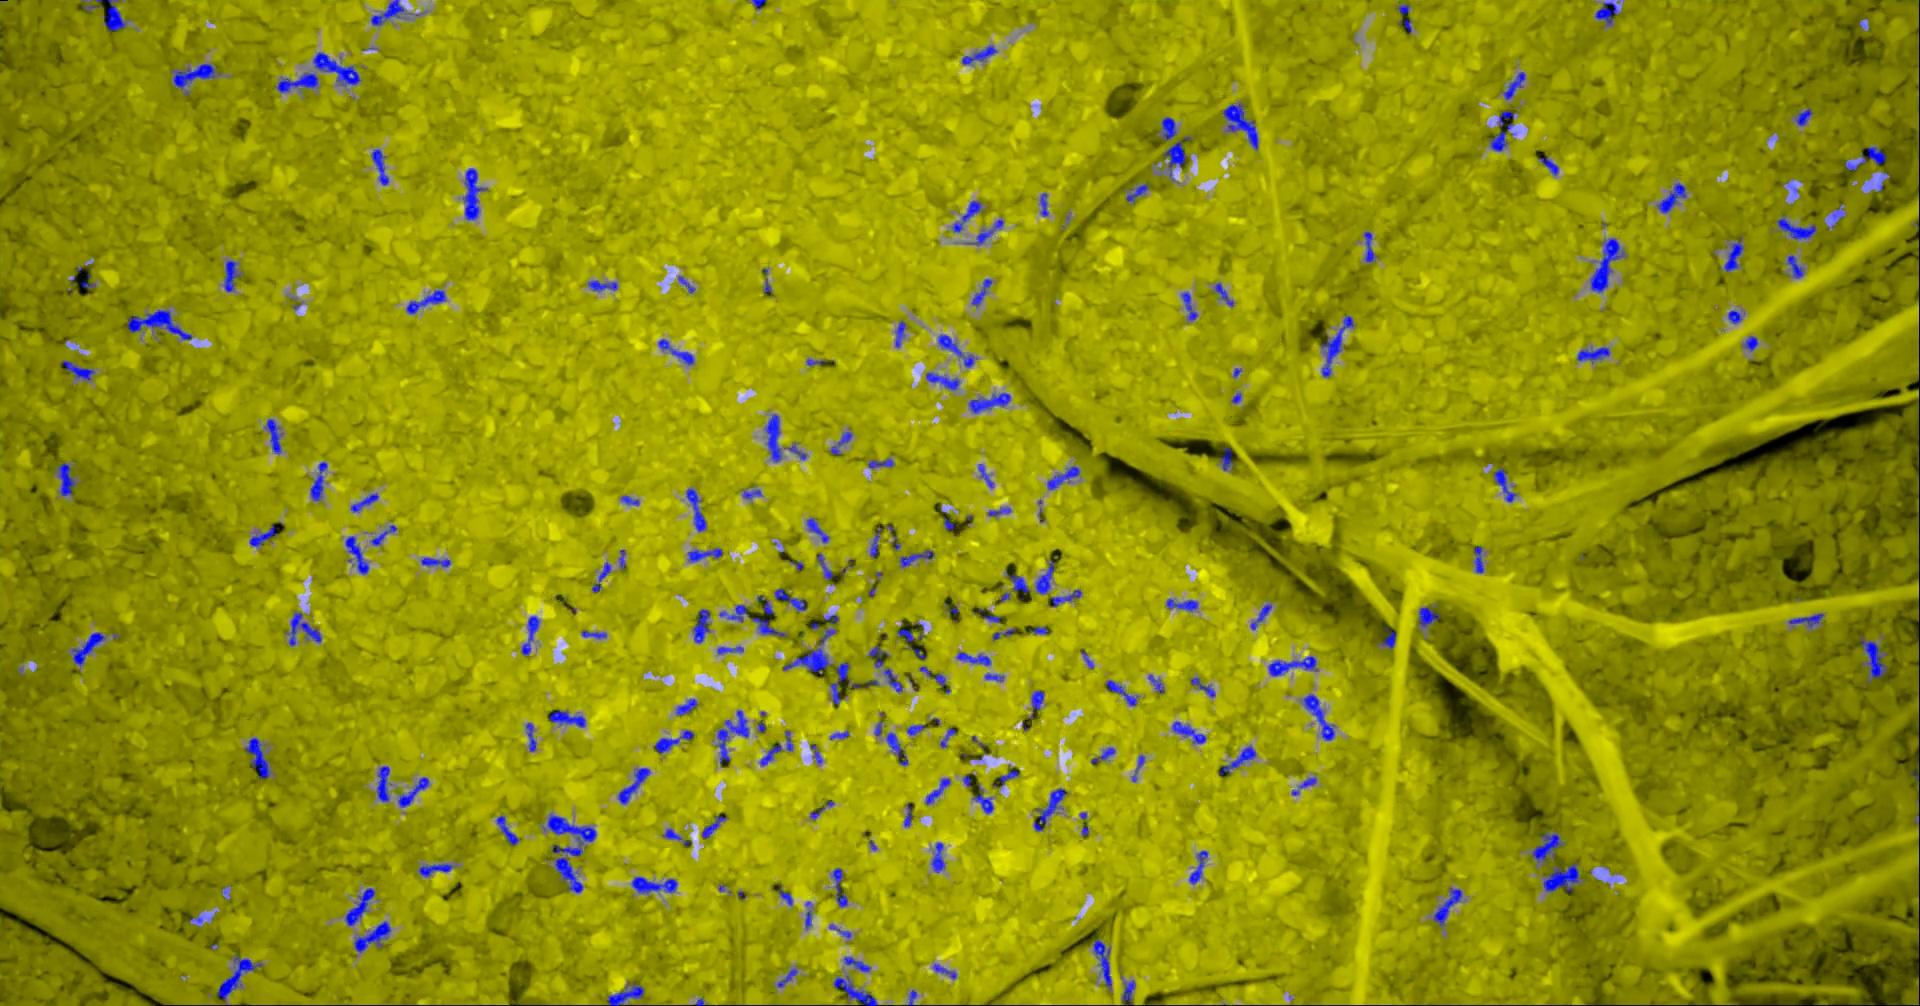ant: (782, 629, 836, 674), (764, 413, 806, 462), (217, 954, 262, 1000), (1321, 315, 1352, 377), (126, 309, 190, 339), (1590, 238, 1623, 292), (715, 709, 748, 763), (312, 51, 361, 86), (1222, 103, 1257, 149), (1303, 694, 1335, 741), (1032, 788, 1065, 831), (462, 166, 488, 218), (81, 0, 124, 30), (937, 334, 977, 367), (833, 976, 877, 1005), (1859, 635, 1887, 681), (171, 64, 218, 89), (617, 767, 650, 803), (1542, 862, 1580, 893), (353, 921, 390, 951), (244, 737, 270, 779), (345, 887, 375, 925), (1432, 887, 1462, 925), (288, 612, 321, 645), (71, 633, 104, 666), (1218, 746, 1255, 774), (1531, 831, 1563, 862), (1777, 213, 1816, 239), (1844, 146, 1884, 170), (965, 218, 1003, 244), (952, 199, 982, 232), (1269, 655, 1316, 676), (344, 535, 368, 574), (654, 729, 693, 753), (1092, 937, 1111, 987), (657, 339, 693, 365), (1490, 111, 1512, 151), (397, 776, 428, 807), (406, 290, 444, 312), (1657, 182, 1685, 212), (968, 392, 1010, 413), (829, 662, 850, 704), (607, 982, 644, 1005), (370, 0, 403, 25), (1163, 138, 1185, 177), (686, 488, 705, 531), (1105, 680, 1137, 705), (276, 72, 317, 91), (1719, 236, 1742, 271), (1493, 467, 1516, 502), (1046, 466, 1079, 489), (631, 876, 677, 893), (1171, 721, 1205, 743), (521, 615, 538, 655), (310, 461, 328, 500), (750, 616, 785, 636), (886, 732, 907, 765), (775, 588, 805, 610), (371, 149, 389, 185), (549, 709, 585, 727), (961, 44, 996, 64), (1035, 559, 1054, 593), (971, 784, 993, 813), (497, 815, 518, 845), (61, 359, 94, 379), (1189, 850, 1208, 883), (830, 868, 847, 906), (924, 779, 949, 804), (1503, 71, 1525, 99), (249, 525, 277, 546), (57, 462, 75, 495), (1004, 569, 1029, 593), (1594, 0, 1617, 25), (806, 517, 829, 542), (590, 561, 610, 592), (701, 815, 726, 838), (924, 372, 959, 389), (899, 550, 933, 567), (1250, 603, 1271, 629), (1190, 676, 1215, 697), (1576, 345, 1609, 362), (693, 608, 710, 641), (265, 418, 281, 453), (370, 525, 396, 545), (376, 766, 391, 801), (971, 278, 990, 306), (990, 768, 1018, 788), (919, 666, 945, 686), (223, 260, 240, 291), (350, 493, 378, 511), (687, 547, 723, 561), (1788, 614, 1823, 627), (1181, 291, 1197, 320), (1050, 589, 1079, 606), (719, 605, 748, 621), (956, 652, 990, 666), (418, 862, 452, 876), (759, 743, 781, 765), (830, 431, 851, 453), (1214, 282, 1233, 306), (883, 667, 902, 691), (1418, 605, 1439, 626), (869, 644, 888, 667), (1125, 183, 1149, 201), (1785, 254, 1803, 278), (776, 968, 797, 987), (1029, 690, 1043, 719), (817, 553, 832, 579), (1166, 598, 1197, 611), (1090, 747, 1114, 763), (1538, 155, 1558, 174), (1363, 231, 1375, 262), (931, 842, 943, 873), (977, 464, 993, 486), (897, 627, 923, 641), (843, 956, 870, 970), (676, 699, 697, 715), (1121, 979, 1135, 1005), (587, 279, 617, 291), (870, 527, 881, 558), (932, 963, 955, 978), (756, 594, 773, 614), (1131, 754, 1144, 781), (940, 727, 956, 747), (524, 721, 536, 751), (1161, 117, 1175, 140), (1148, 674, 1164, 694), (1796, 107, 1812, 124), (1219, 447, 1232, 470), (895, 319, 905, 347), (1473, 545, 1483, 573), (1380, 630, 1396, 648), (777, 887, 792, 904), (1831, 205, 1843, 227), (992, 627, 1015, 639), (420, 558, 450, 567), (662, 828, 682, 840), (867, 459, 893, 467), (905, 724, 924, 735), (1039, 192, 1048, 216), (1743, 335, 1757, 351), (1727, 310, 1742, 323), (742, 489, 761, 499), (620, 495, 639, 506), (717, 647, 743, 654), (582, 630, 606, 638), (1298, 777, 1316, 788), (987, 507, 1010, 514), (903, 803, 910, 826), (1030, 626, 1050, 634), (984, 673, 1003, 681)
